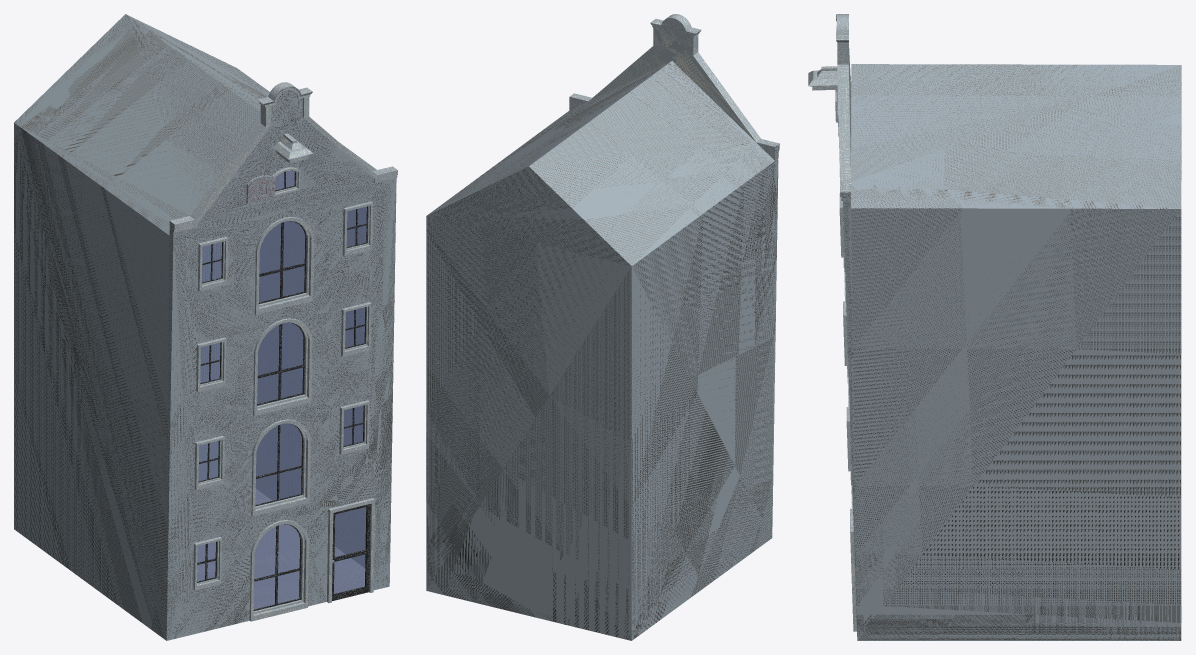
Rendered from House2.fbx.
The picture shows the model from 3 angles, left to right: view 1: azimuth 30°, elevation 25°; view 2: azimuth 150°, elevation 25°; view 3: azimuth 270°, elevation 25°; orthographic projection. The views are drawn at different scales.
Parts seen in each view (by area): view 1: Group1; view 2: Group1; view 3: Group1.
Part boxes in pixels (x1=…): Group1: x1=14, y1=14, x2=397, y2=640; Group1: x1=426, y1=14, x2=779, y2=640; Group1: x1=808, y1=14, x2=1181, y2=640.
Size of the model in its own units: 211 by 483 by 288.
